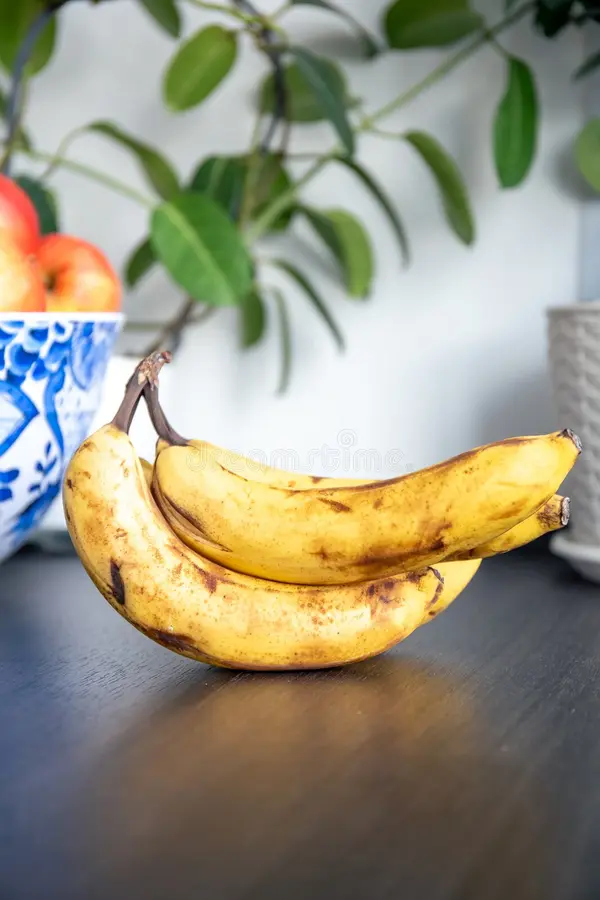banana: (65, 349, 582, 680)
